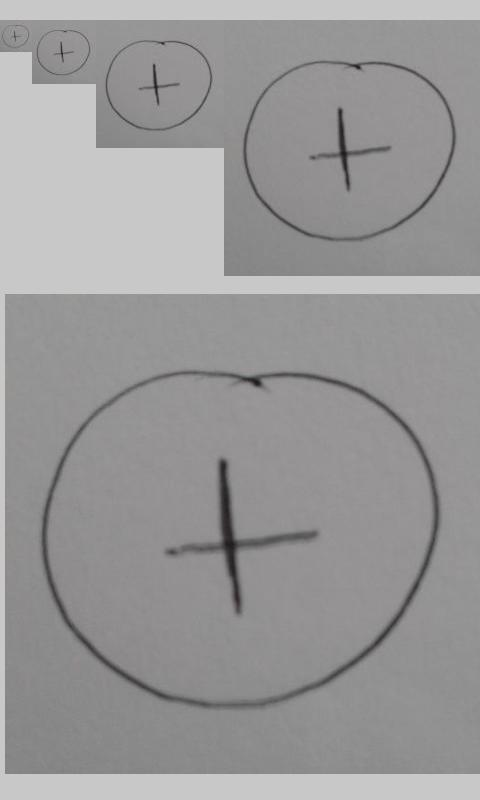button: (39, 366, 443, 711), (242, 59, 457, 242), (105, 40, 214, 132), (36, 29, 91, 76), (1, 24, 30, 49)
